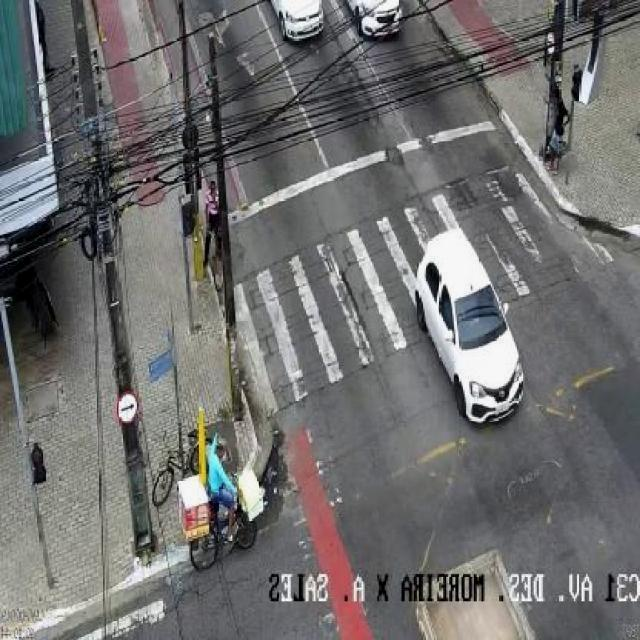Car: (399, 225, 548, 439), (266, 0, 336, 45), (348, 0, 407, 38)
Cycle: (146, 457, 222, 571)
